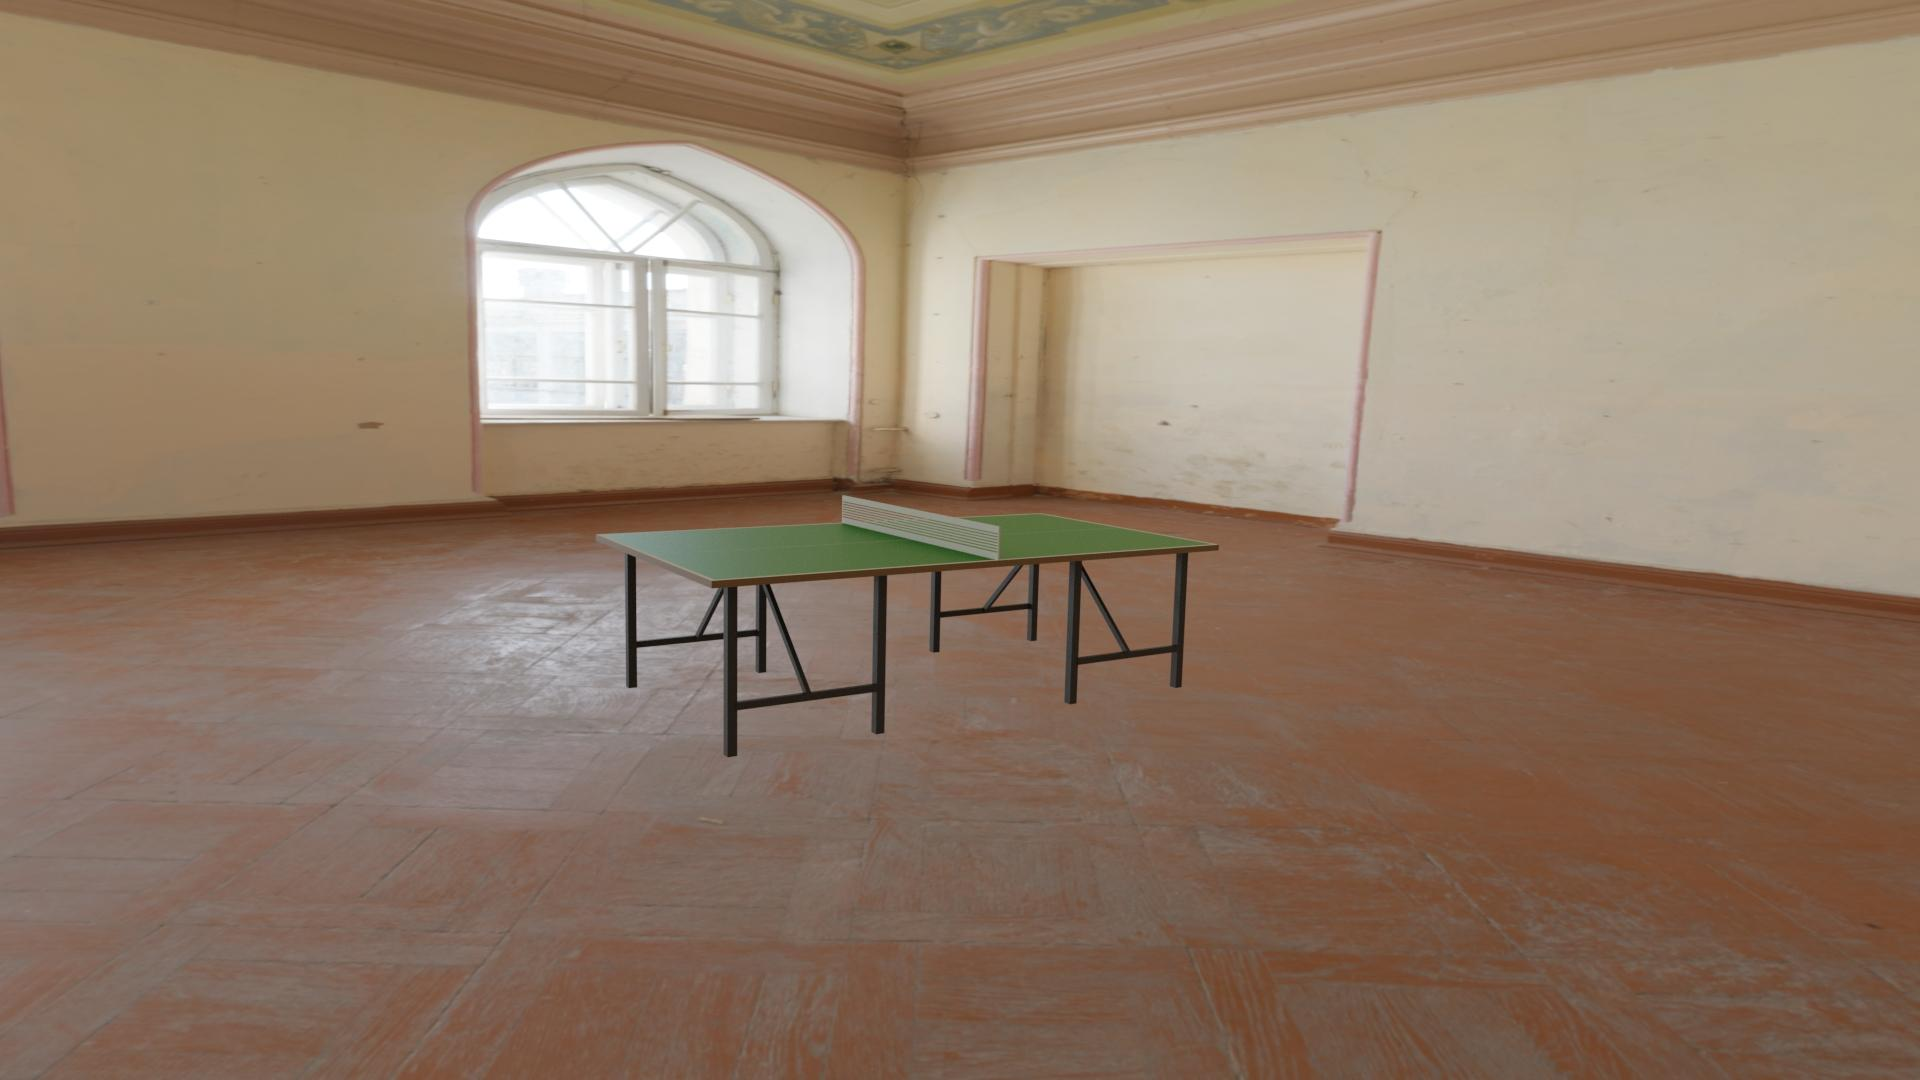table: (601, 514, 1213, 580)
